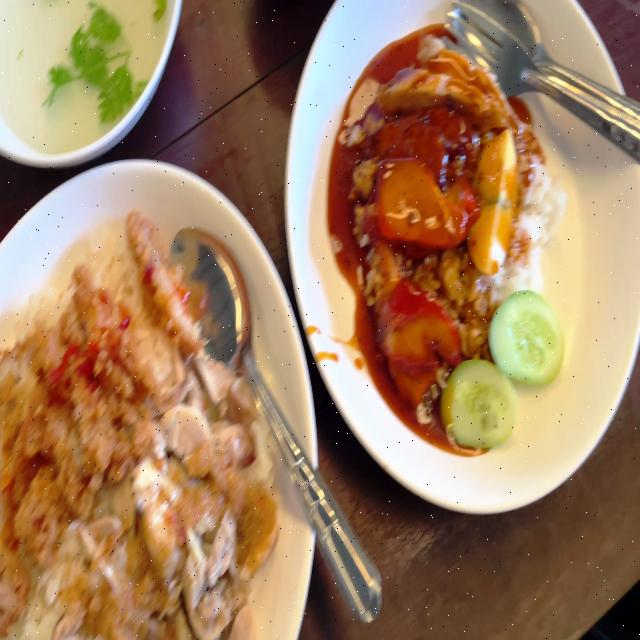boiled_chicken: (64, 351, 274, 640)
boiled_egg: (470, 124, 521, 273)
chainese_sausage: (374, 106, 467, 168)
chicken_rice: (0, 205, 277, 640)
crispy_pork: (373, 41, 522, 108)
cucumber: (488, 291, 568, 391), (441, 355, 518, 451)
fried_chicken: (0, 207, 199, 546)
red_pork: (371, 278, 459, 402), (375, 159, 475, 245)
red_pork_and_crispy_pork: (345, 34, 571, 451)
